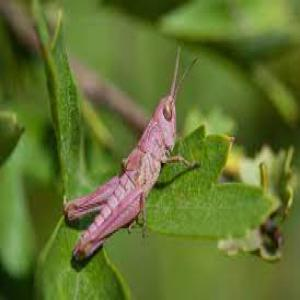locust: (67, 48, 197, 254)
